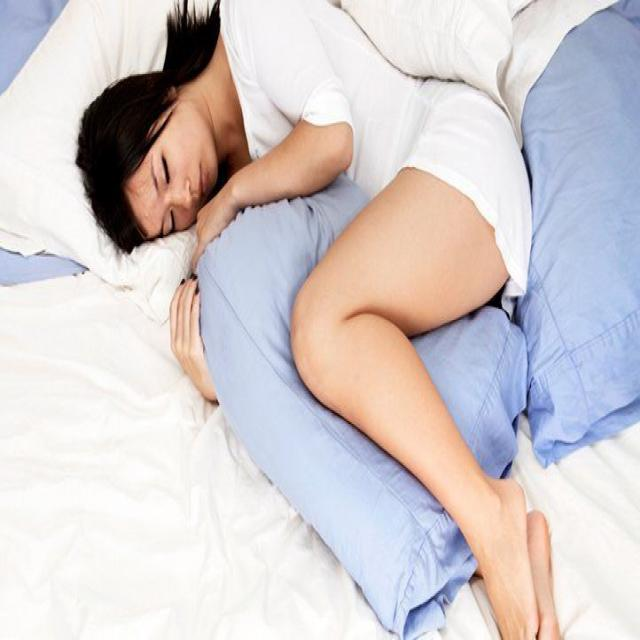people: (65, 5, 566, 635)
